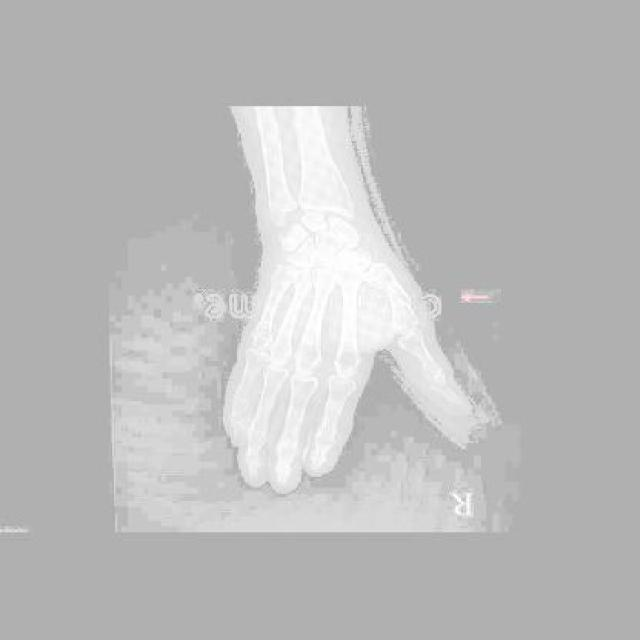Fracture: (387, 288, 416, 316)
